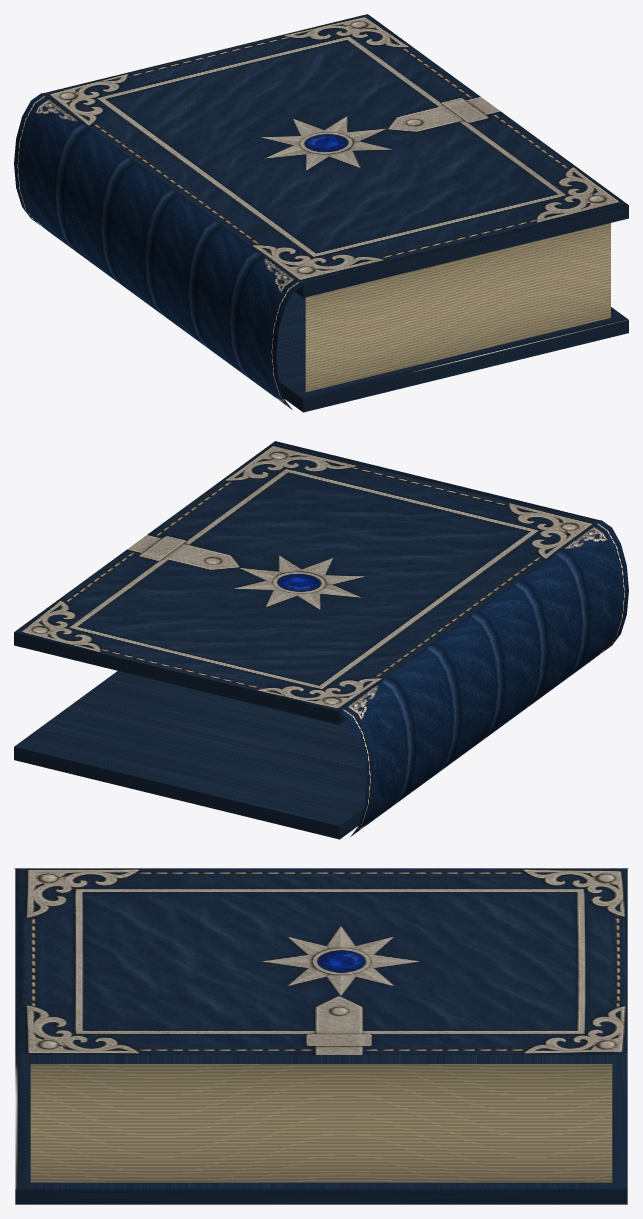
The model's file is item_mm9_spellbook_master.glb.
3 renders of one model, top to bottom at view 1: azimuth 30°, elevation 25°; view 2: azimuth 150°, elevation 25°; view 3: azimuth 270°, elevation 25°, orthographic. The views are drawn at different scales.
Visible parts, largest first — view 1: mm9_spellbook_master; view 2: mm9_spellbook_master; view 3: mm9_spellbook_master.
Part boxes in pixels (bbox=[...]): mm9_spellbook_master: bbox=[14, 14, 628, 412]; mm9_spellbook_master: bbox=[14, 441, 628, 839]; mm9_spellbook_master: bbox=[14, 868, 628, 1204].
Size of the model in its own units: 0.7808 by 0.27 by 1.
Materials: 1 (1 with a texture image).
